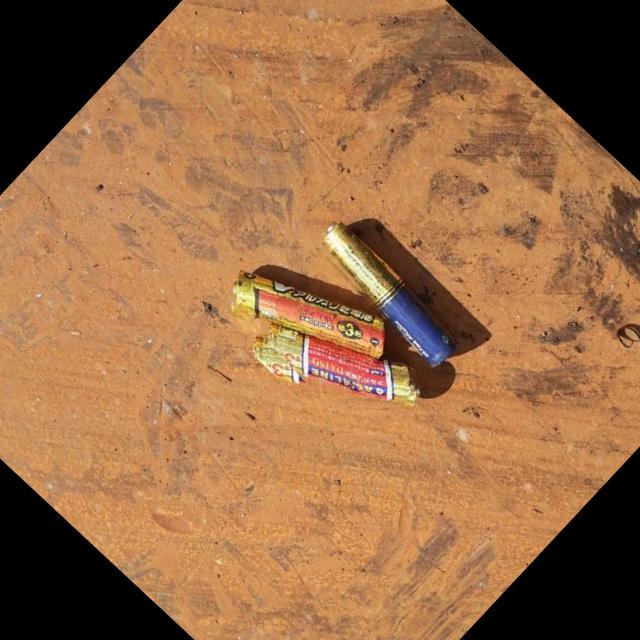Hazard: (212, 222, 400, 408), (245, 274, 430, 456), (305, 216, 468, 372)
